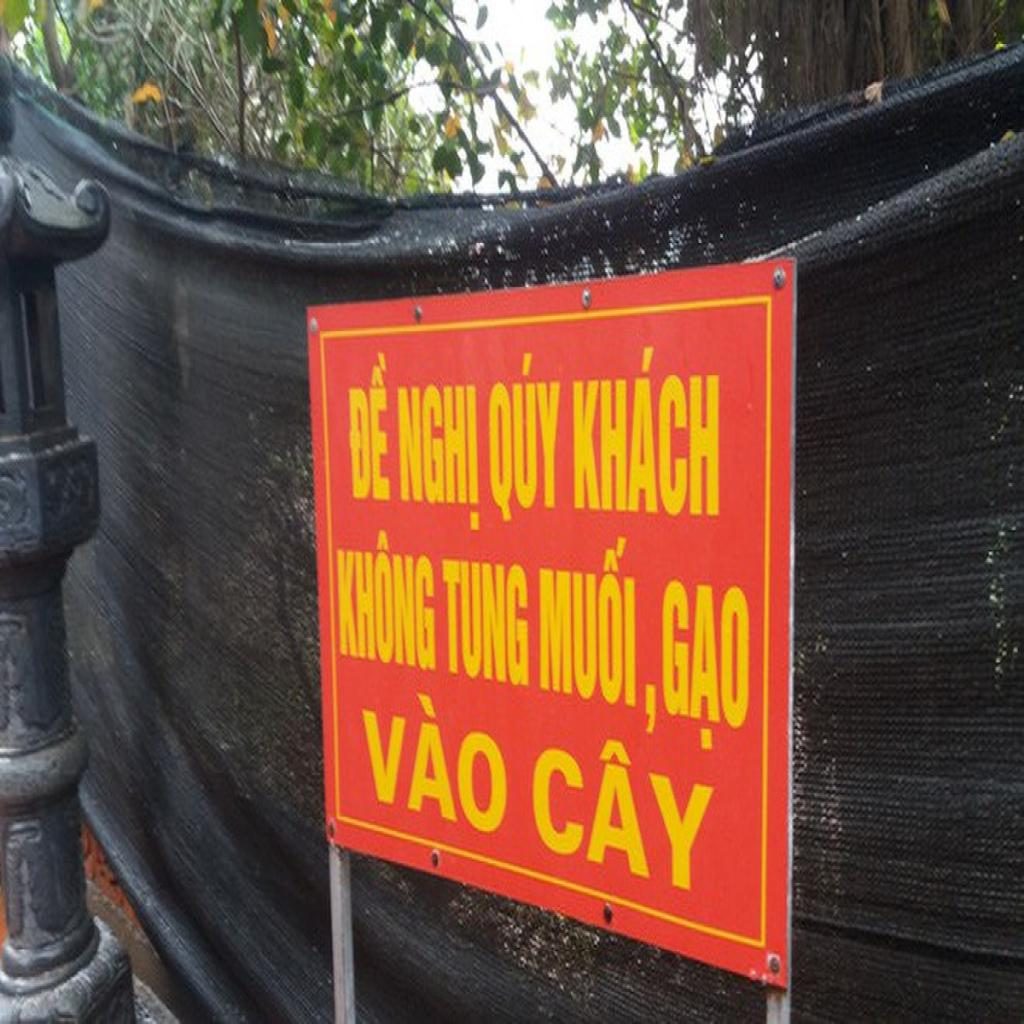text: (573, 340, 722, 523), (538, 530, 660, 744), (355, 678, 511, 843), (660, 571, 752, 761), (336, 527, 438, 679), (395, 383, 482, 539), (488, 348, 562, 527), (441, 554, 531, 693), (346, 350, 392, 504)
